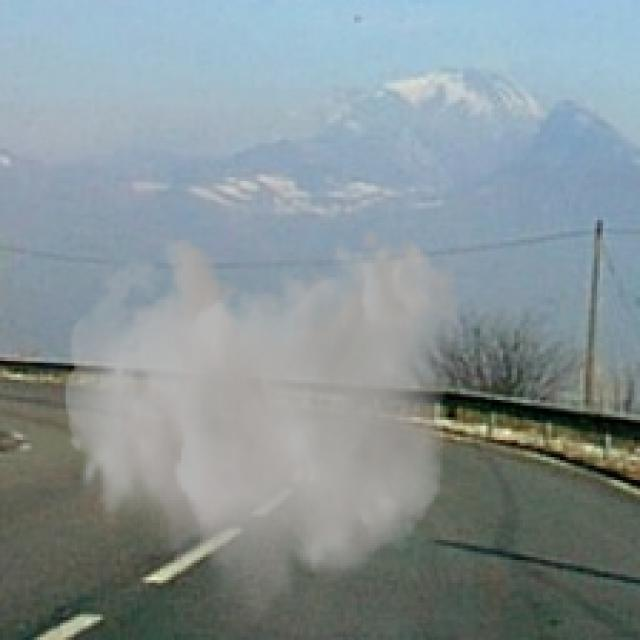smoke: (66, 226, 463, 628)
